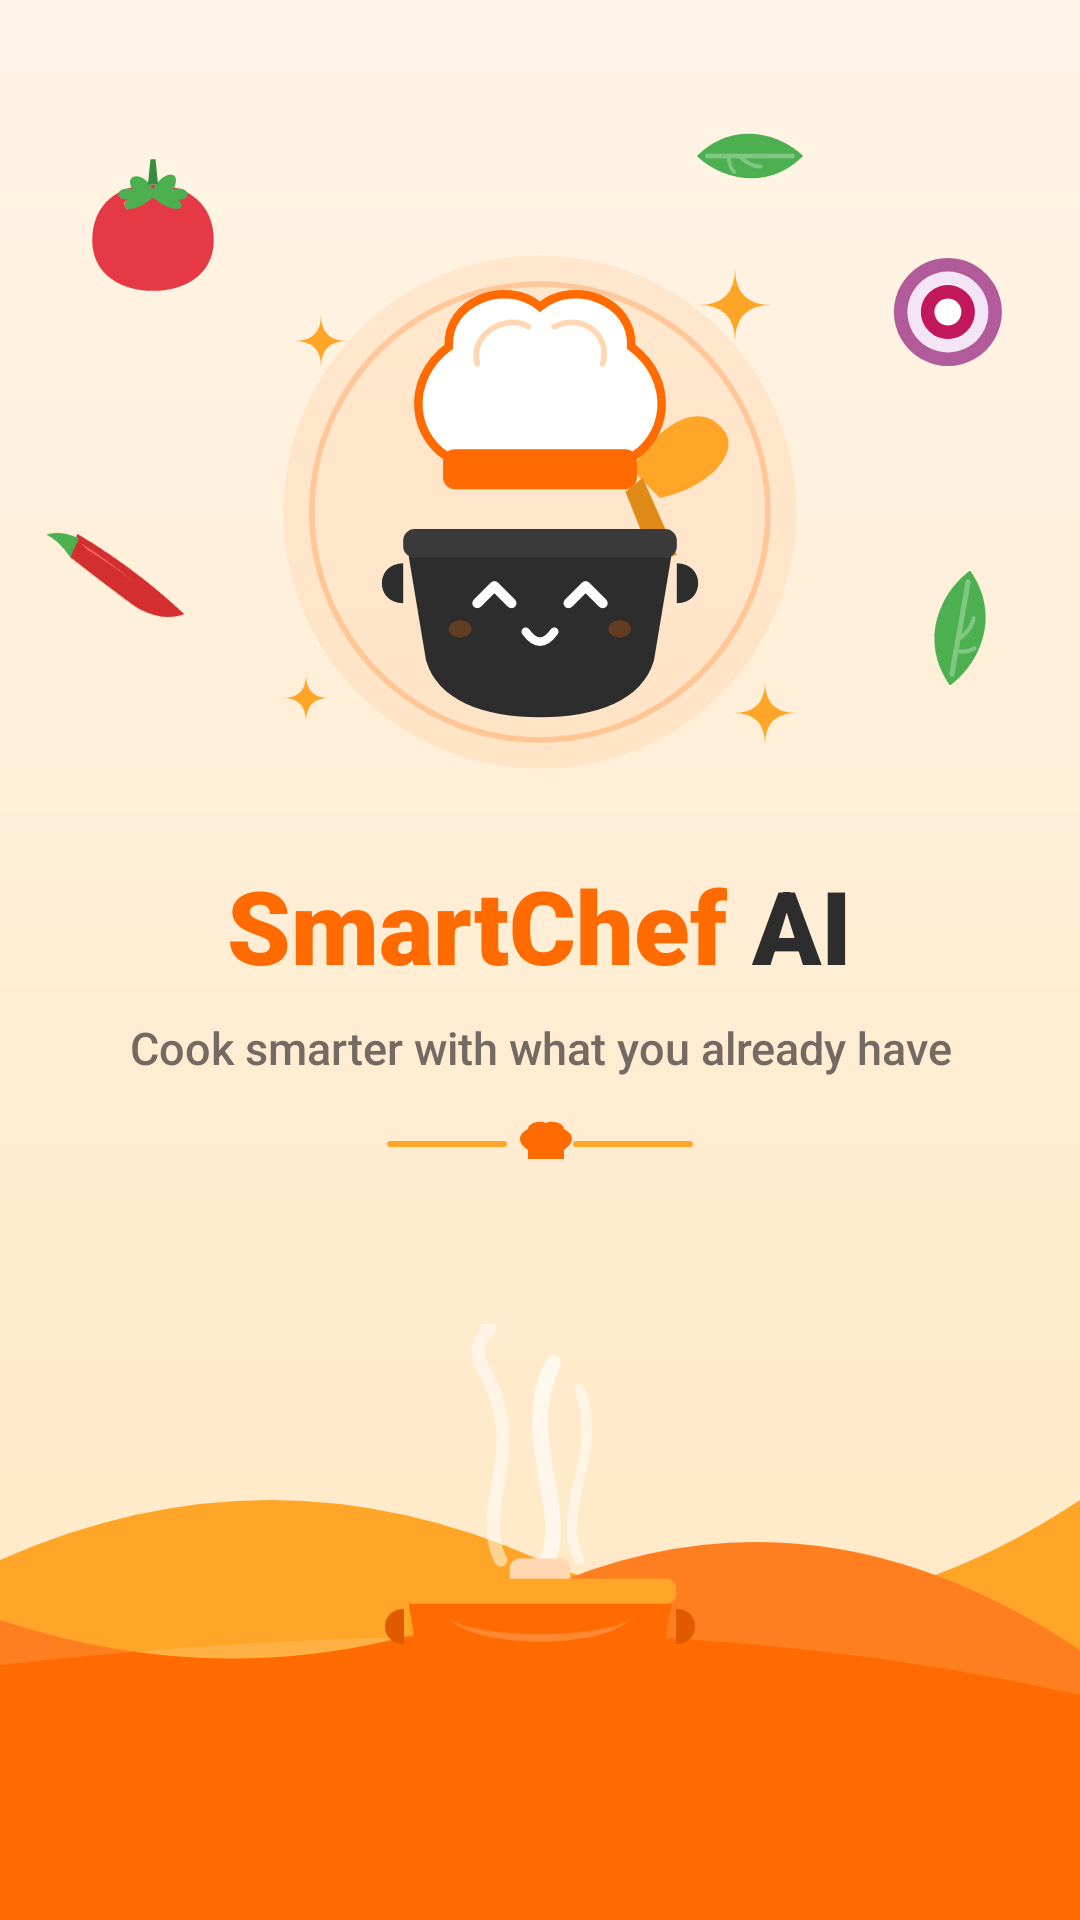

Screen size 1080 x 1920. Icon name, then its box in pixels as (x1, y1, x2, y2):
Cut Onion Ring: (894, 258, 1002, 366)
Fresh Tomato: (92, 159, 214, 291)
Pot Steam: (435, 1324, 645, 1590)
Sparkle: (700, 270, 770, 340), (296, 317, 346, 365), (285, 677, 327, 720), (735, 684, 795, 743)
